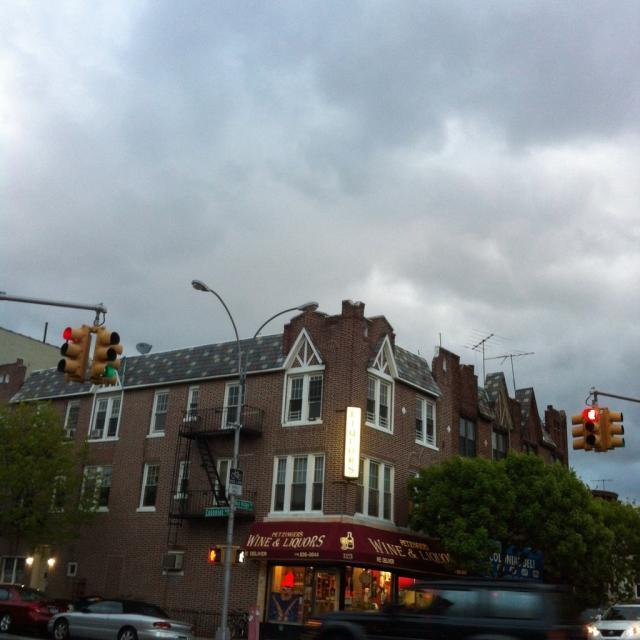traffic light: (59, 321, 86, 382), (579, 407, 606, 455), (97, 328, 121, 381)
